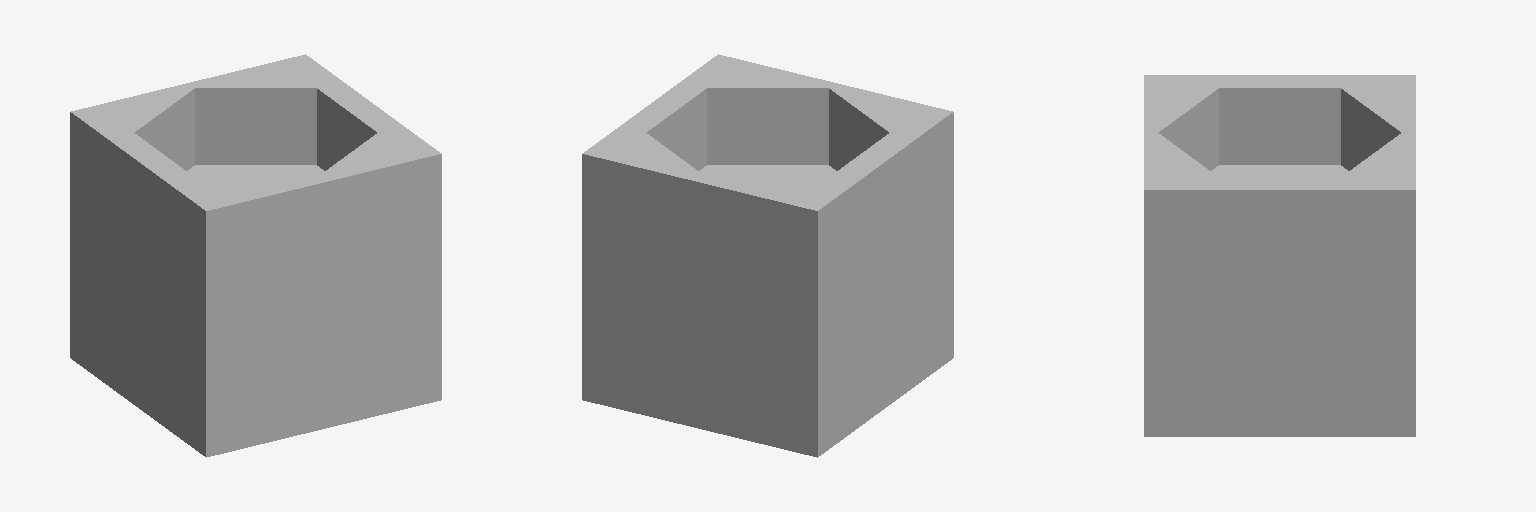
Rendered from Hexagon_cube_bottle_preprocessed.obj.
3 views of the same model, side by side, from view 1: azimuth 30°, elevation 25°; view 2: azimuth 150°, elevation 25°; view 3: azimuth 270°, elevation 25° (orthographic).
Bounding box in the file's own units: 0.08 × 0.08 × 0.08.